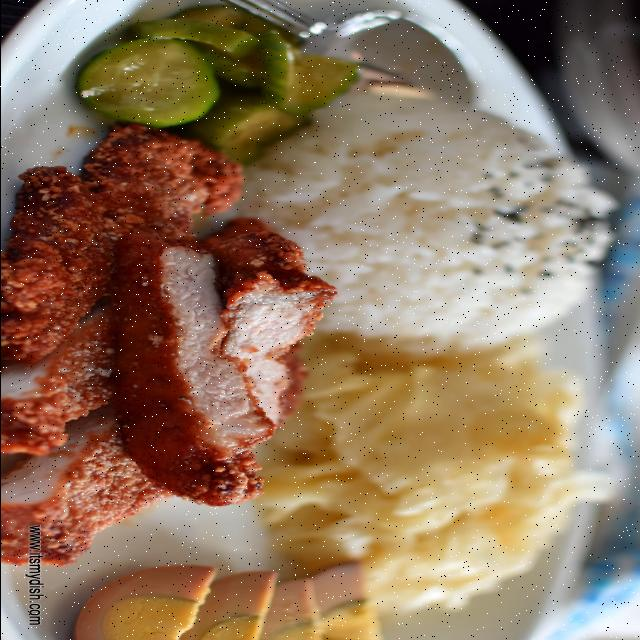Egg: (74, 563, 380, 640)
Green veg: (77, 5, 357, 165)
Non green veg: (260, 334, 609, 613)
Pork: (1, 124, 335, 565)
Rice: (237, 92, 616, 348)
